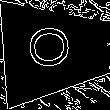O_E: (30, 28, 82, 74)
